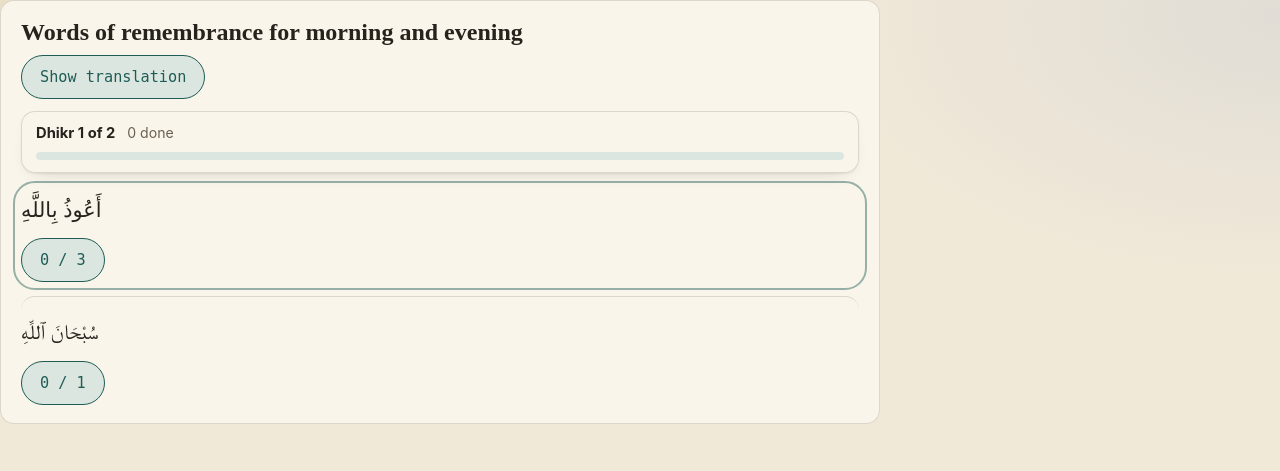
Test: AzkarList › shows the translation on request, only under the items that have one, and can hide it again
Click the button "Show translation" at (113, 77), box [21,55,205,99]
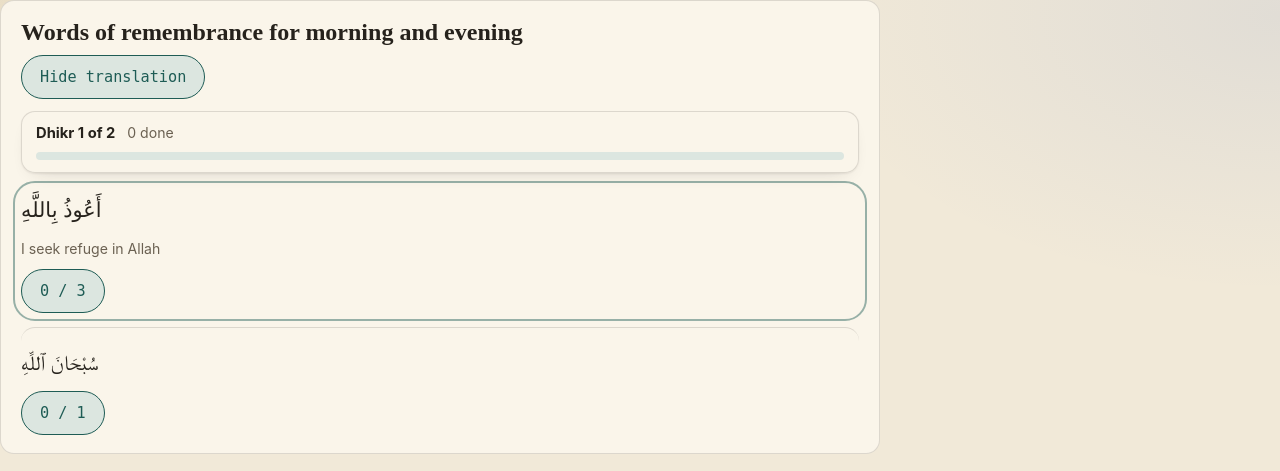
Expected: the text "I seek refuge in Allah" is shown, [21,240,160,257]
Click the button "Hide translation" at (113, 77), box [21,55,205,99]
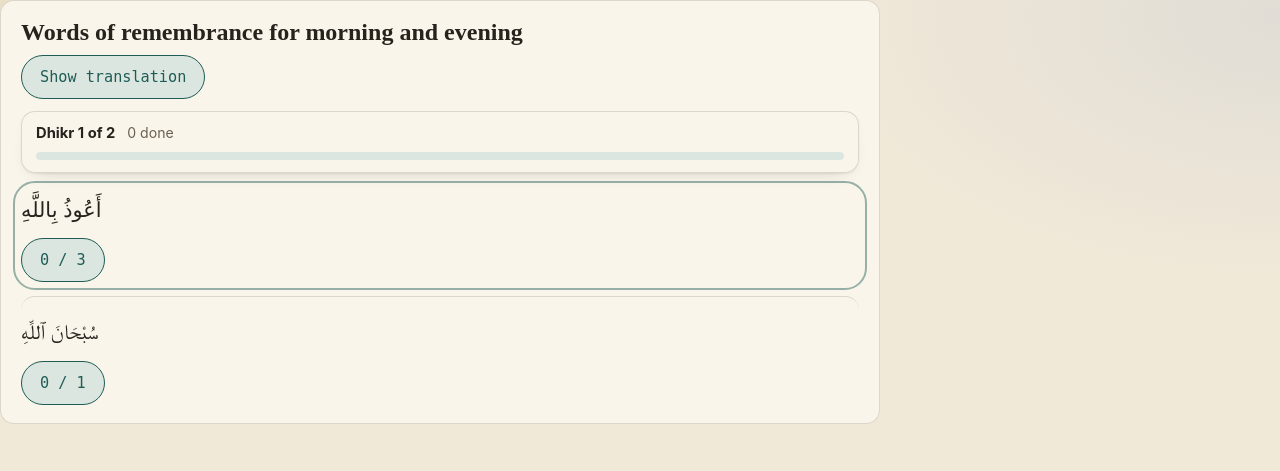
Expected: the text "I seek refuge in Allah" is gone
